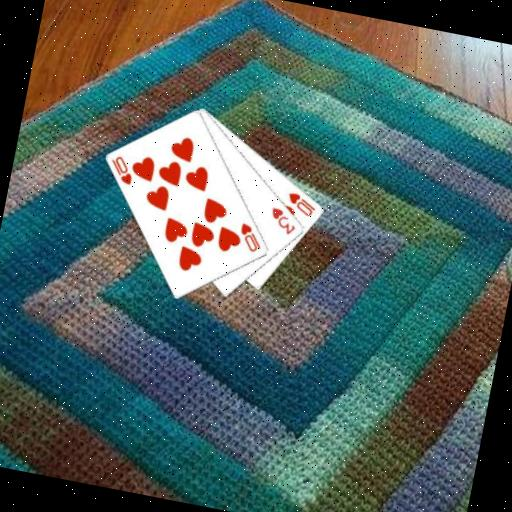10H: (105, 151, 138, 187), (282, 188, 320, 219), (235, 220, 267, 255)
3H: (266, 204, 301, 238)
